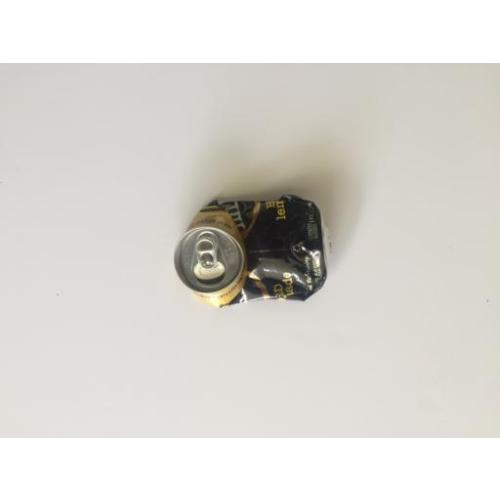metal: (177, 196, 331, 307)
